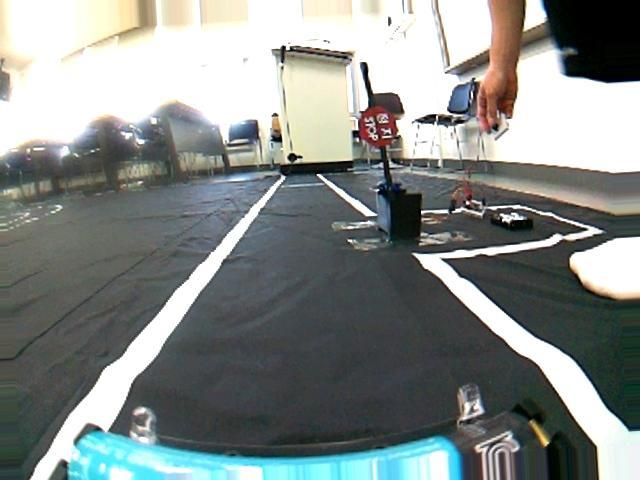sign_stop: (355, 105, 403, 146)
straight: (45, 272, 570, 469)
